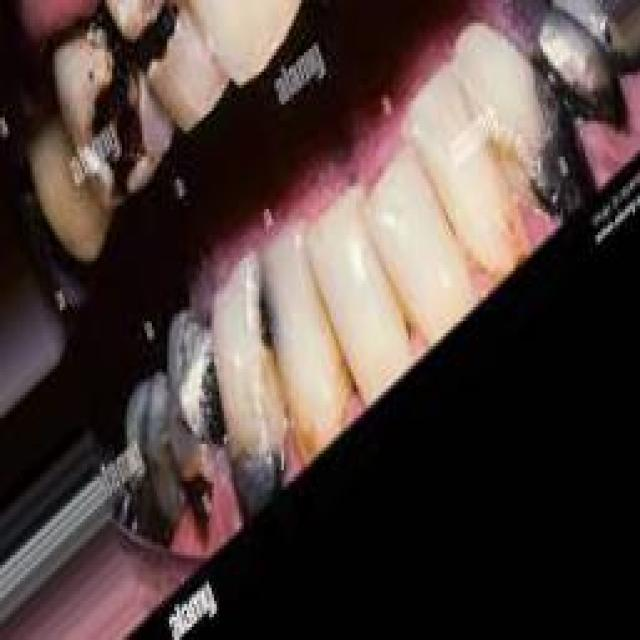caries: (55, 28, 161, 198), (232, 268, 305, 375), (117, 0, 204, 85)
